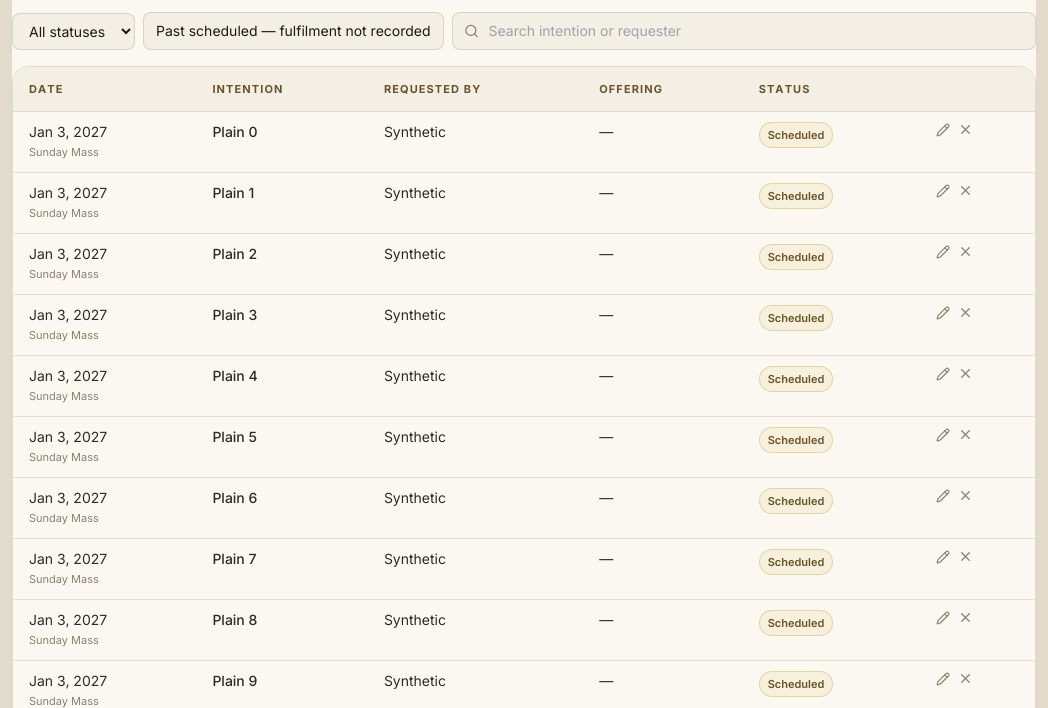
Test: R313-1 list-result ownership › CONTROL: a newer Load more on the current filtered query still appends
Expected: the text "Plain 0" is shown, [196,112,368,172]
Click the button with test id "mi-past-filter" at (293, 31), box [143,12,444,50]
(page scrolled)
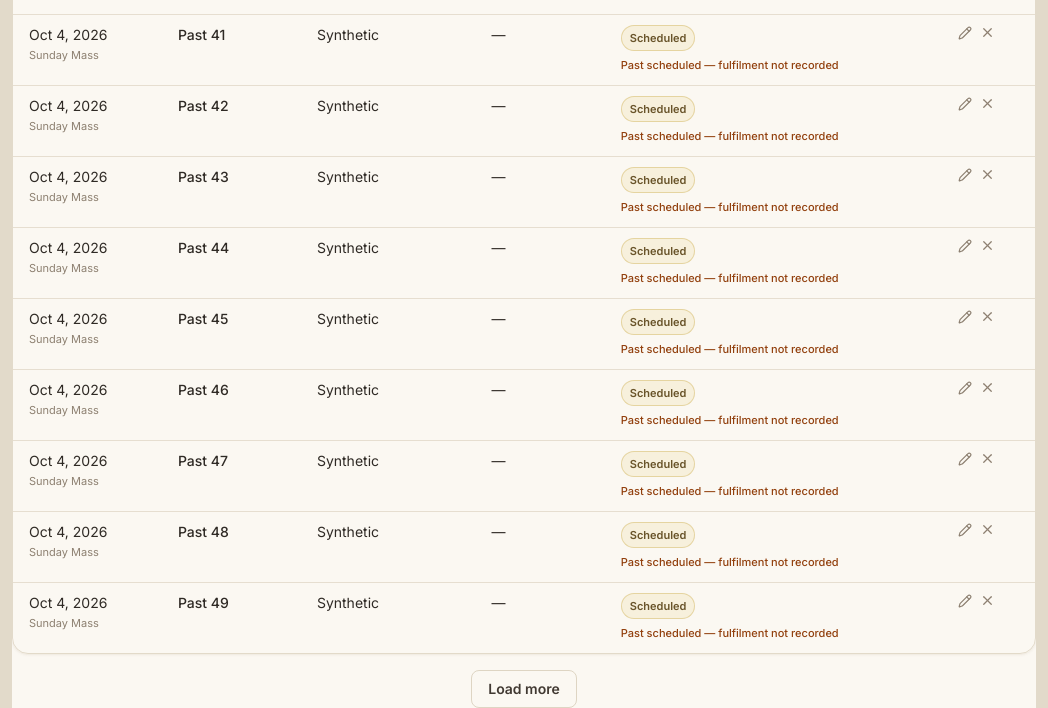
Click the button "Load more" at (524, 689), box [471,670,577,707]
(page scrolled)
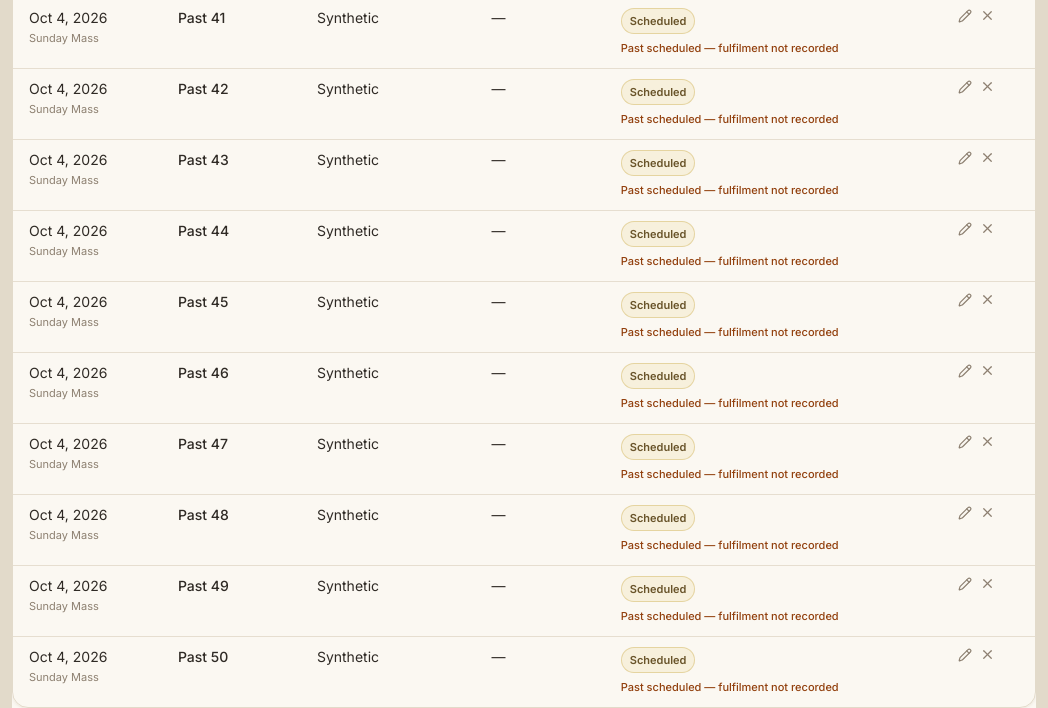
Result: the text "Past 50" is shown at [162,636,301,707]
